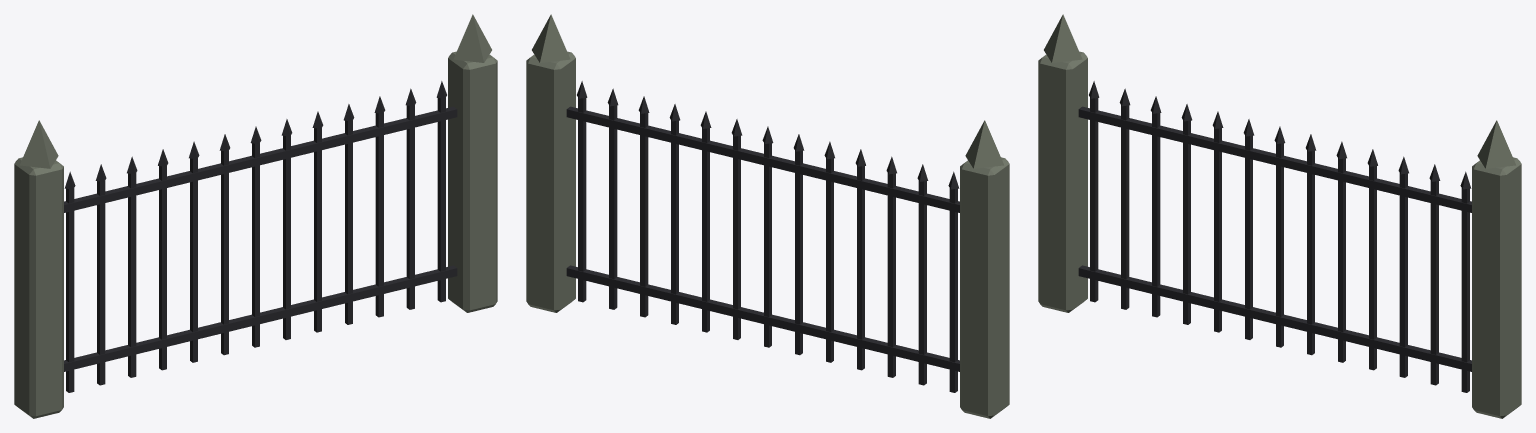
The model's file is Grave_Fence.fbx.
3 renders of one model, left to right at view 1: azimuth 30°, elevation 25°; view 2: azimuth 150°, elevation 25°; view 3: azimuth 330°, elevation 25°, orthographic.
Parts seen in each view (by area): view 1: Grave_Fence.001; view 2: Grave_Fence.001; view 3: Grave_Fence.001.
Boxes of the visible parts, bbox=[...] form: Grave_Fence.001: bbox=[14, 14, 497, 418]; Grave_Fence.001: bbox=[526, 14, 1009, 418]; Grave_Fence.001: bbox=[1038, 14, 1521, 418].
Bounding box in the file's own units: 2.18 × 1.28 × 0.18.
